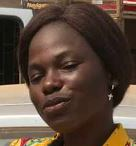without_facemask: (29, 81, 96, 129)
